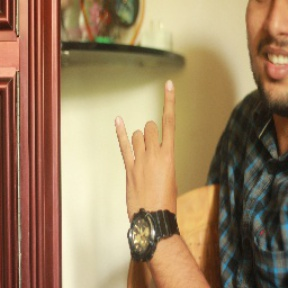V: (112, 77, 190, 221)
